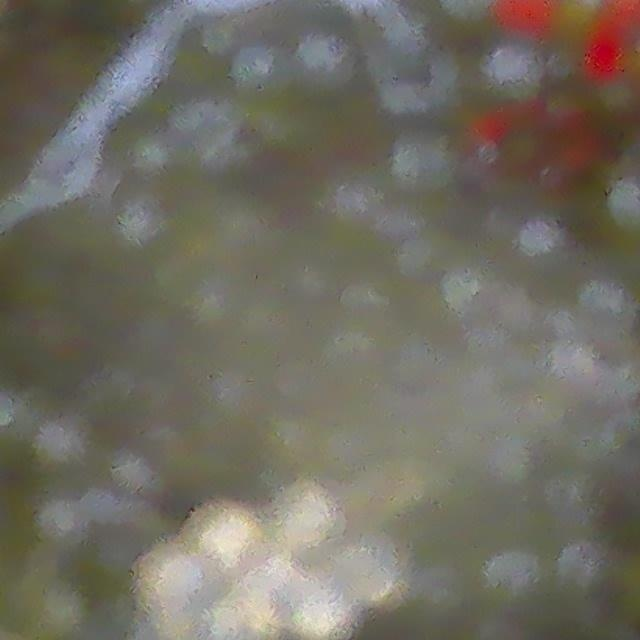SeaGrape: (193, 497, 265, 557), (137, 551, 202, 616), (348, 540, 409, 605), (223, 584, 290, 640), (293, 578, 346, 640), (281, 482, 332, 543)
